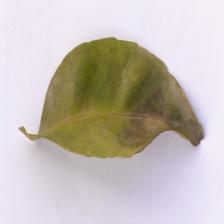black spot: (128, 28, 208, 158)
